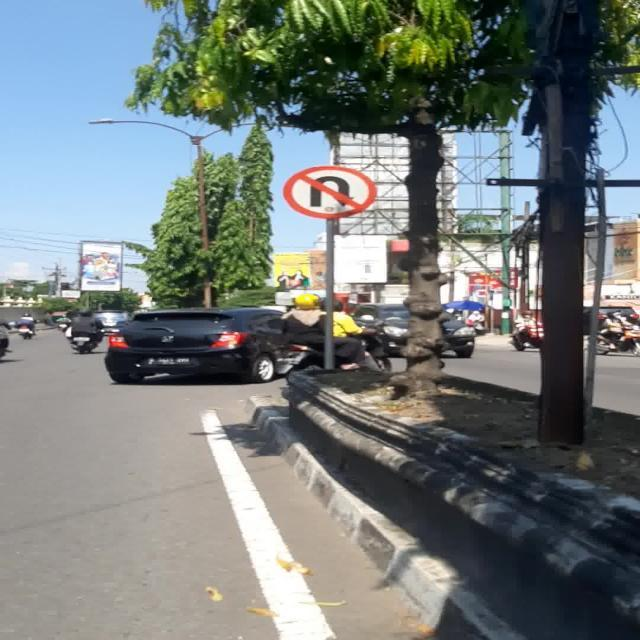Dilarang Putar Balik: (283, 166, 377, 218)
